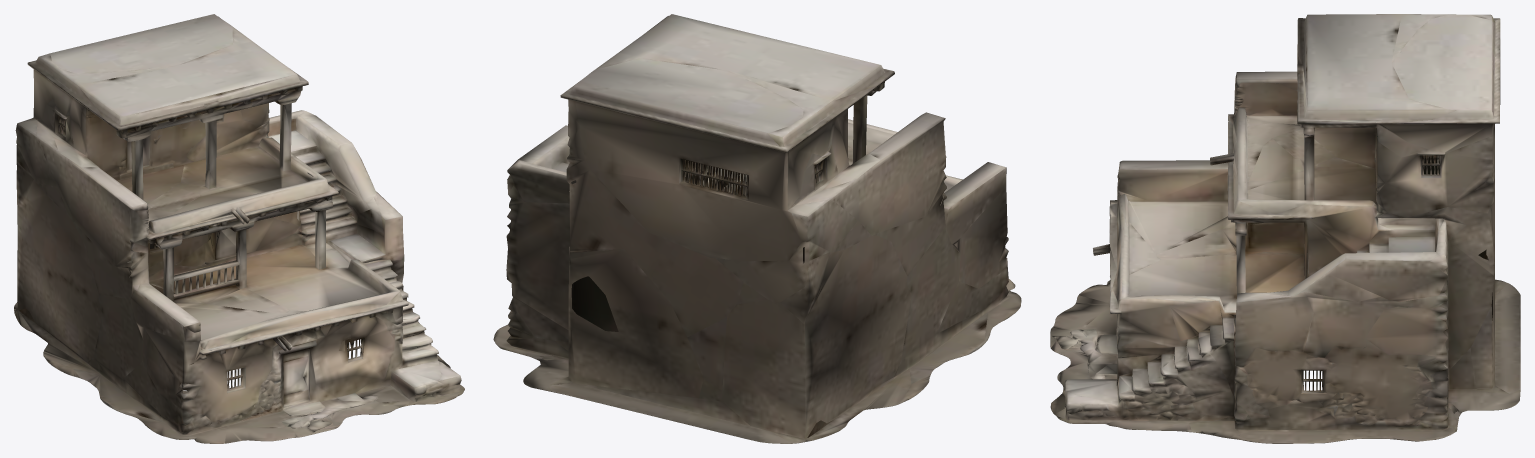
Rendered from house_07.glb.
3 views of the same model, side by side, from view 1: azimuth 30°, elevation 25°; view 2: azimuth 150°, elevation 25°; view 3: azimuth 270°, elevation 25° (orthographic). The views are drawn at different scales.
Parts seen in each view (by area): view 1: node_0; view 2: node_0; view 3: node_0.
Part boxes in pixels (x1,y1,x2,y2): node_0: (14, 14, 464, 443); node_0: (493, 14, 1021, 443); node_0: (1050, 14, 1520, 443).
Bounding box in the file's own units: 0.7919 × 0.5905 × 0.8932.
Materials: 1 (1 with a texture image).
